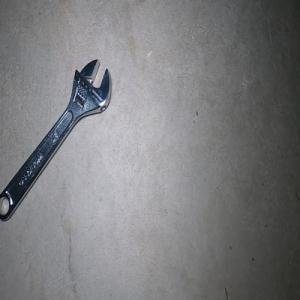Wrench: (0, 59, 111, 221)
